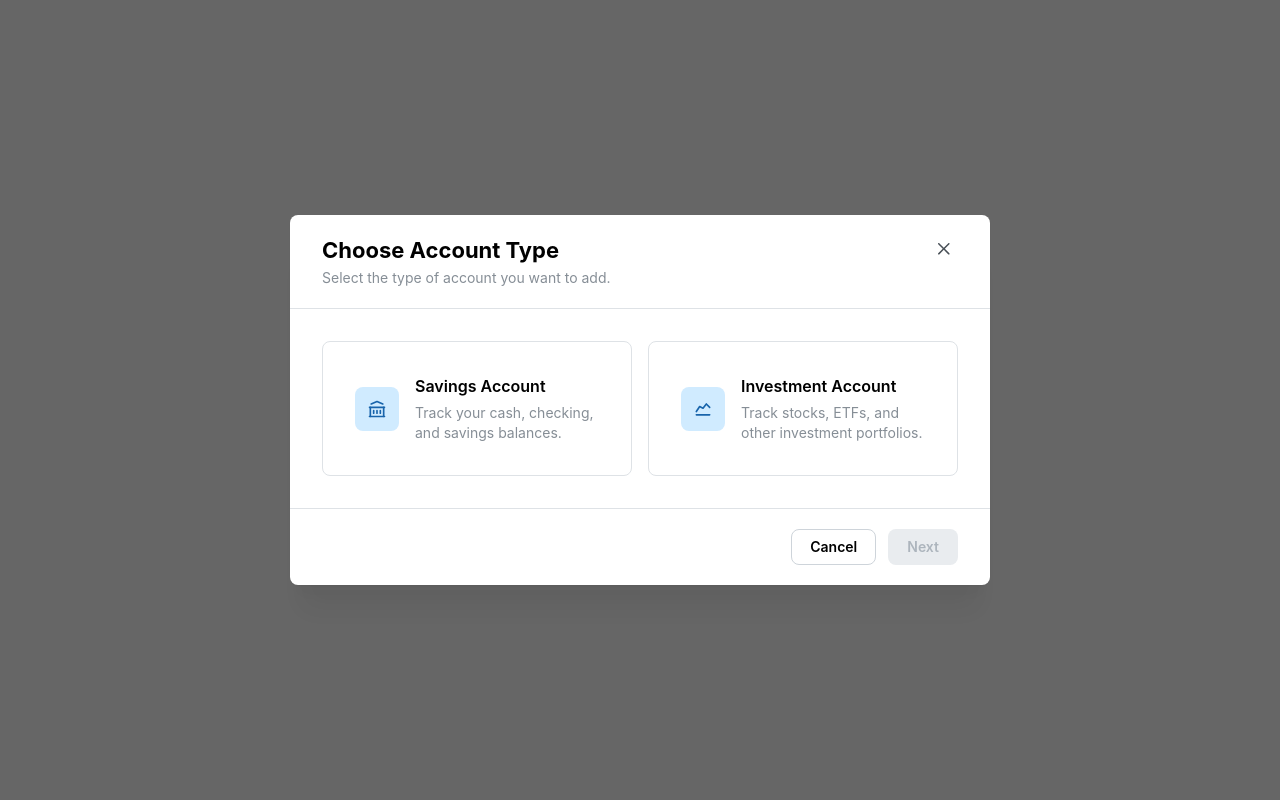
AddAccountModal › enables Next button when Investment Account is selected
Click the text "Investment Account". click: (819, 386)
box: [741,376,896,396]
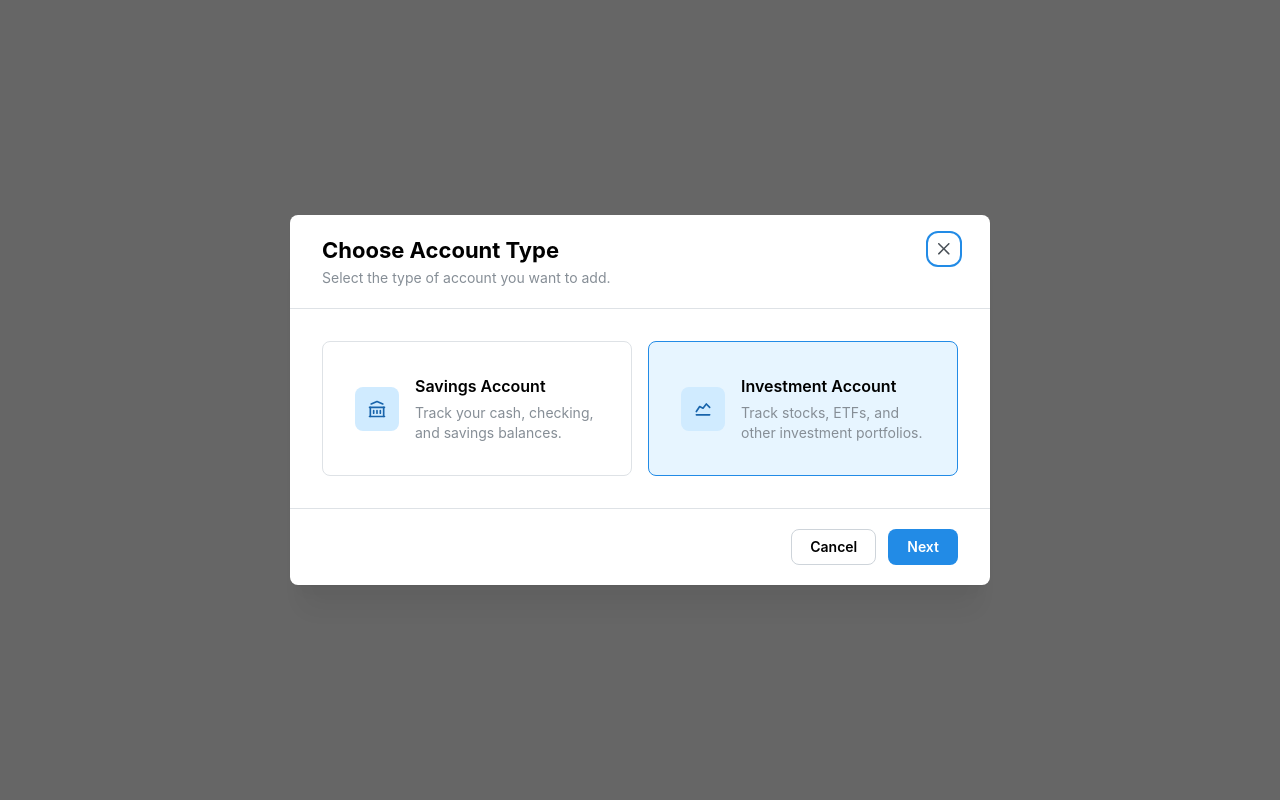
Check: the button "Next" is enabled, box [888,529,958,565]
